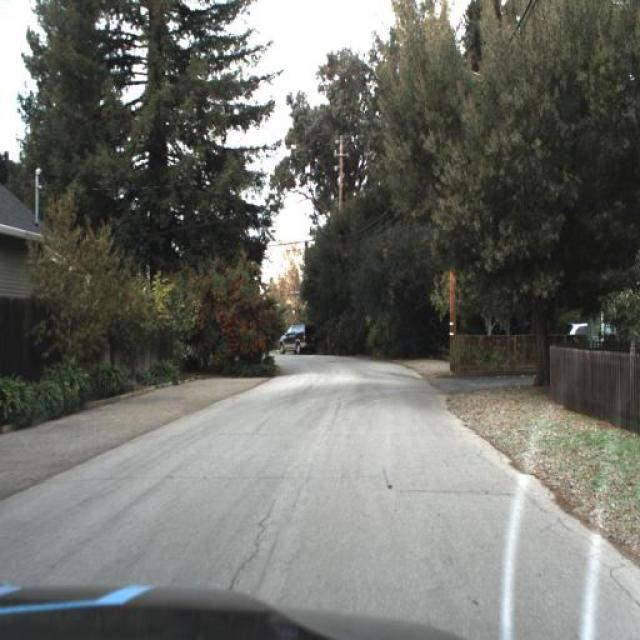car: (555, 294, 626, 358), (267, 314, 318, 370)
